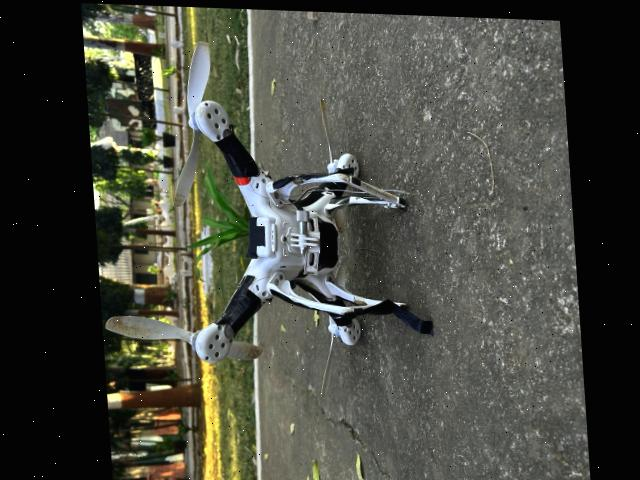drone: (121, 4, 444, 469)
